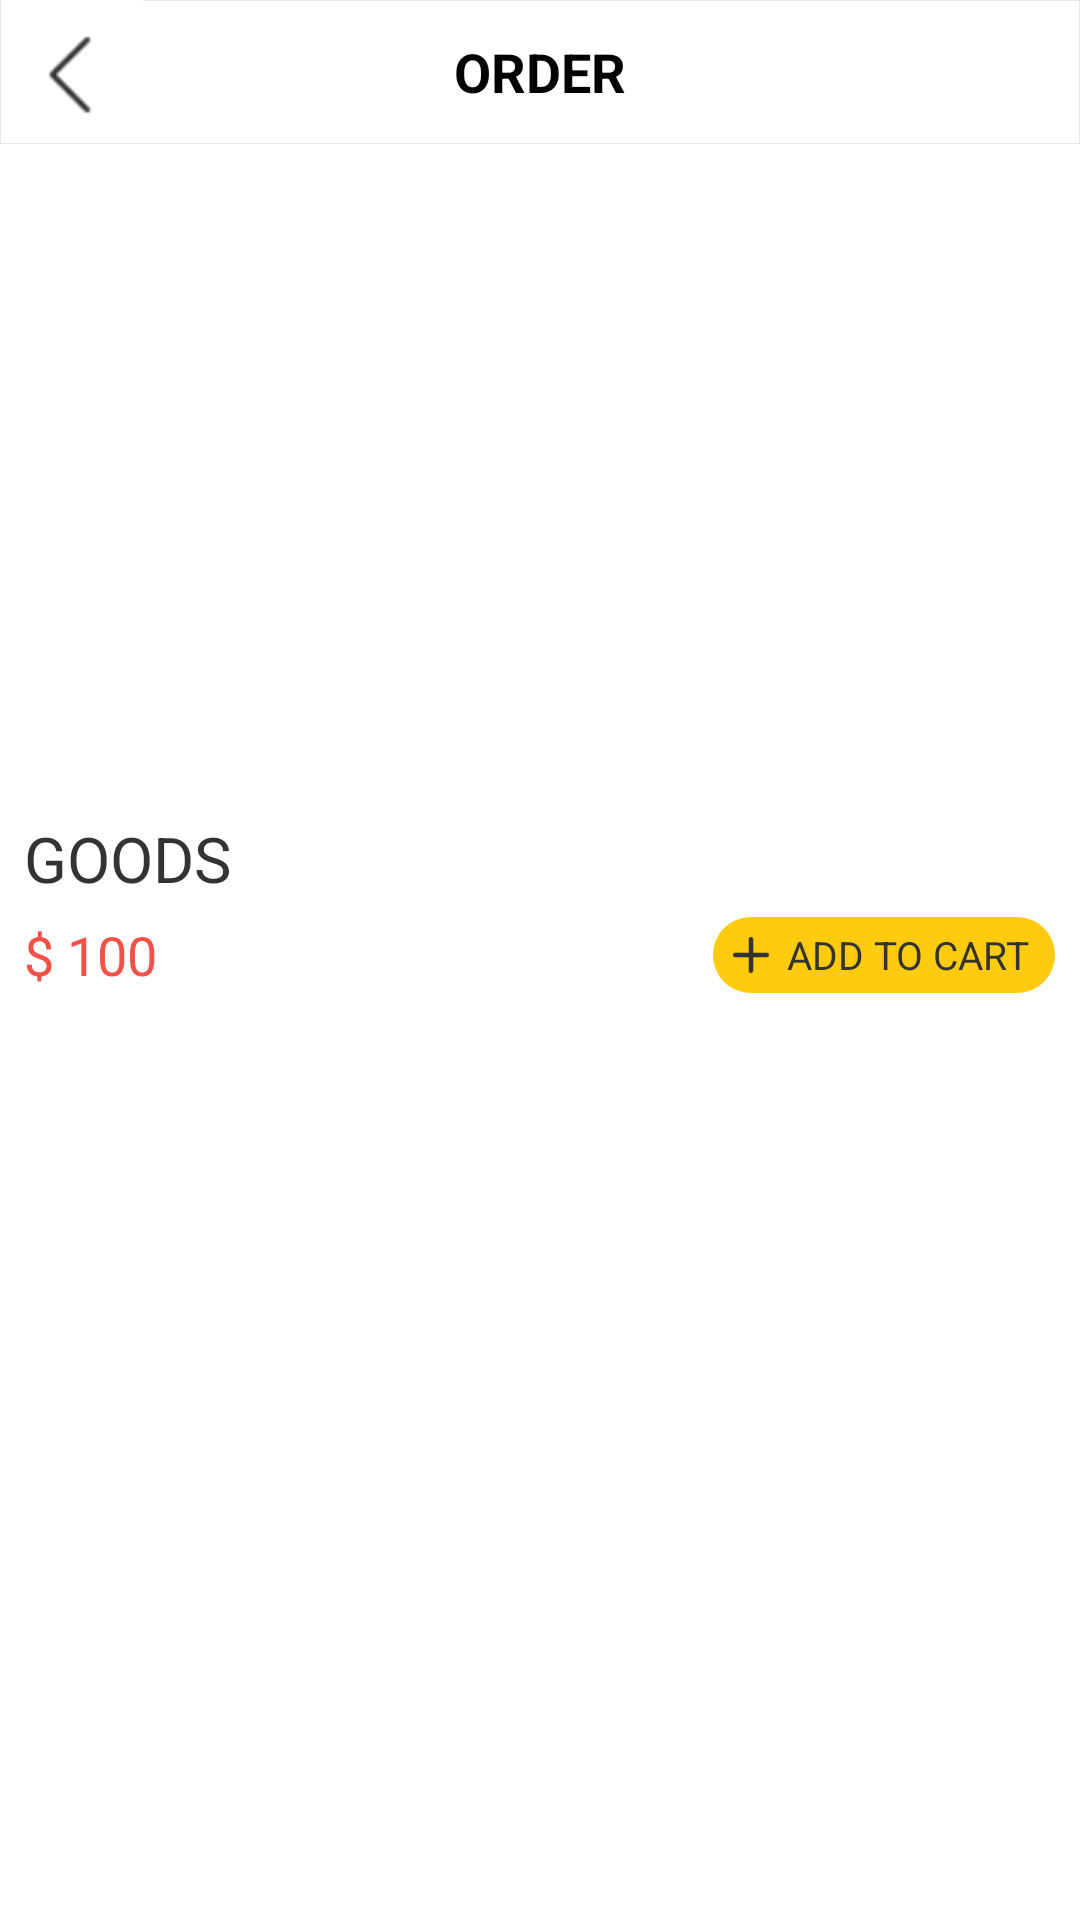

Named icons in this screenshot (1080w x 1920h) and their bounding boxes, (x1, y1, x2, y2):
back: (49, 36, 91, 113)
